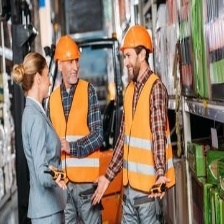helmet: (119, 23, 153, 54), (55, 34, 82, 62)
no-helmet: (22, 49, 50, 74)
no-vest: (22, 108, 62, 221)
person: (114, 23, 177, 224), (50, 33, 106, 224), (13, 52, 65, 224)
vest: (126, 77, 176, 193), (52, 83, 103, 189)
